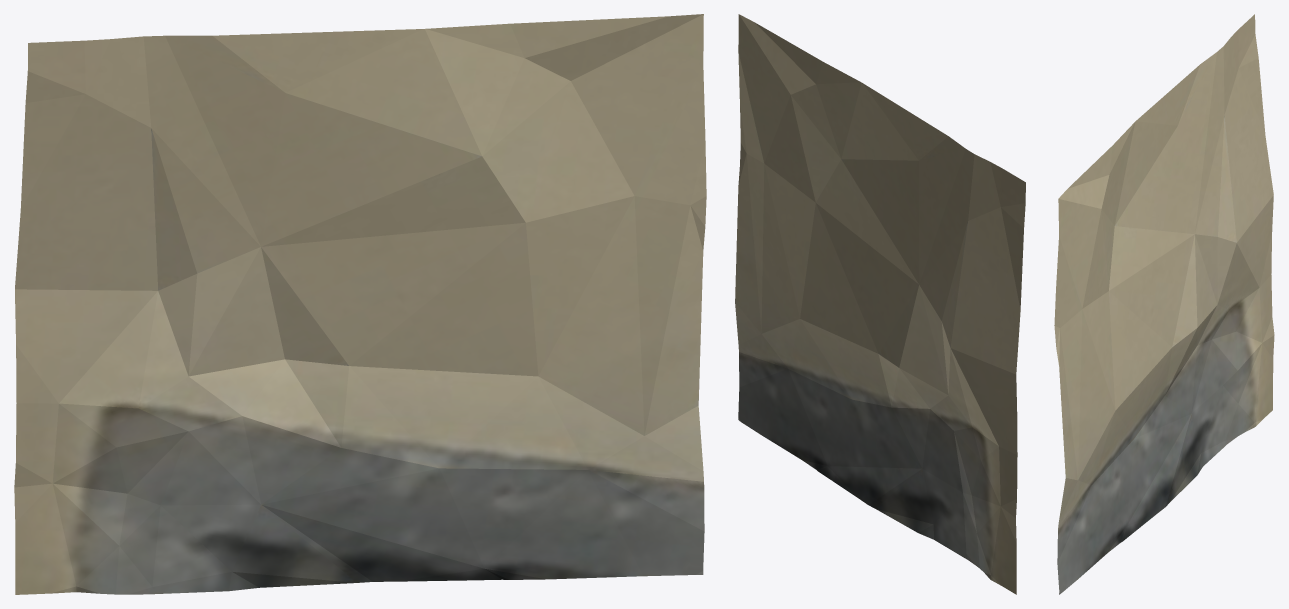
3 renders of one model, left to right at view 1: azimuth 30°, elevation 25°; view 2: azimuth 150°, elevation 25°; view 3: azimuth 270°, elevation 25°, orthographic. The views are drawn at different scales.
Bounding box in the file's own units: 0.8374 × 0.8374 × 0.4215.
Materials: 3 (3 with a texture image).
